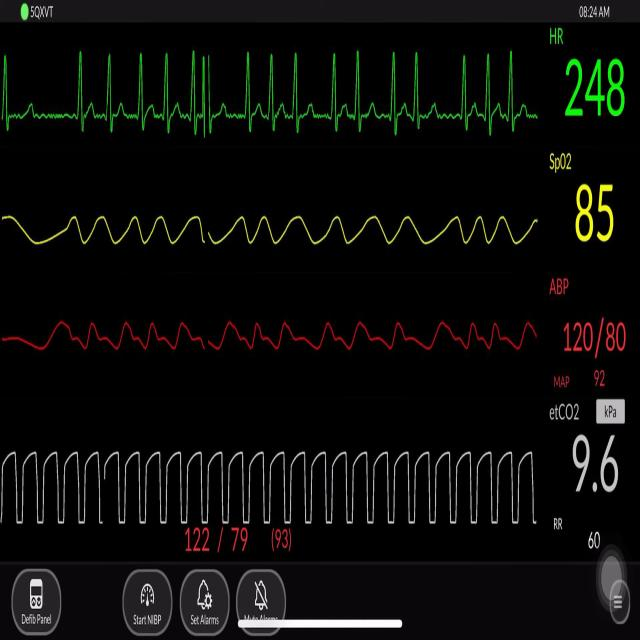danger: (192, 40, 208, 144)
